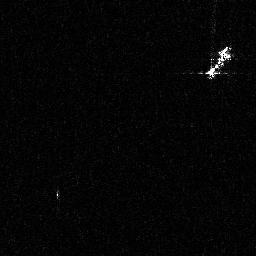ship: (197, 45, 231, 81)
